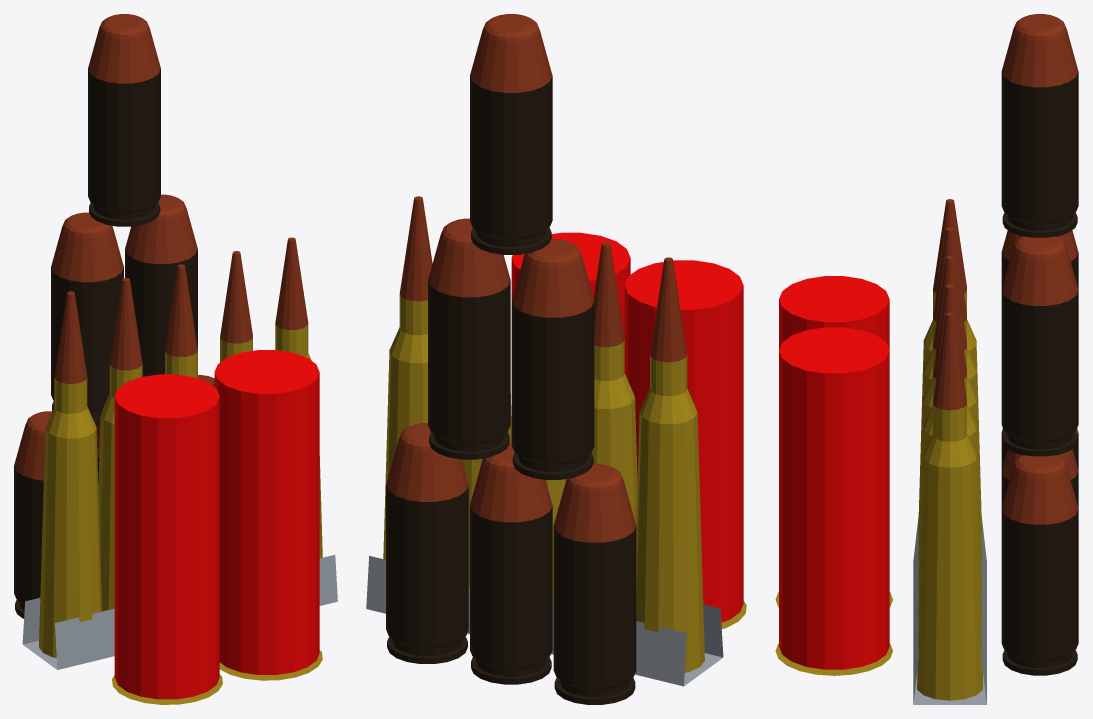
Rendered from ammunition.obj.
3 renders of one model, left to right at view 1: azimuth 30°, elevation 25°; view 2: azimuth 150°, elevation 25°; view 3: azimuth 270°, elevation 25°, orthographic. The views are drawn at different scales.
Visible parts, largest first — view 1: shellPlastic2, shellPlastic, bullet5case, 40sAwCase.005, 40sAwCase.004, 40sAwCase.003, clip, 40sAw.005, 40sAw.004, bullet4case, 40sAwCase.002, 40sAw.003 (+10 smaller); view 2: shellPlastic2, bullet5case, 40sAwCase.002, 40sAwCase.004, 40sAwCase, 40sAwCase.003, 40sAwCase.001, 40sAwCase.005, bullet4case, bullet1case, clip, 40sAw.005 (+11 smaller); view 3: shellPlastic, bullet1case, 40sAwCase.001, 40sAwCase.003, 40sAwCase.005, shellPlastic2, 40sAw.005, 40sAw.001, 40sAw.003, clip, bullet1, bullet2case (+10 smaller).
Boxes of the visible parts, <box> form: shellPlastic2: <box>114,374,219,699</box>; shellPlastic: <box>214,350,319,674</box>; bullet5case: <box>39,377,101,657</box>; 40sAwCase.005: <box>88,69,160,226</box>; 40sAwCase.004: <box>51,267,123,424</box>; 40sAwCase.003: <box>125,249,197,376</box>; clip: <box>22,555,337,669</box>; 40sAw.005: <box>88,14,160,83</box>; 40sAw.004: <box>51,212,123,282</box>; bullet4case: <box>98,364,142,611</box>; 40sAwCase.002: <box>14,466,43,618</box>; 40sAw.003: <box>125,194,197,263</box>; shellPlastic2: <box>624,260,743,622</box>; bullet5case: <box>636,355,704,672</box>; 40sAwCase.002: <box>553,526,636,704</box>; 40sAwCase.004: <box>511,301,594,479</box>; 40sAwCase: <box>470,505,552,684</box>; 40sAwCase.003: <box>428,280,510,459</box>; 40sAwCase.001: <box>386,485,468,663</box>; 40sAwCase.005: <box>470,76,552,254</box>; bullet4case: <box>591,340,637,524</box>; bullet1case: <box>383,293,427,559</box>; clip: <box>366,555,723,686</box>; 40sAw.005: <box>470,14,552,92</box>; shellPlastic: <box>779,327,889,669</box>; bullet1case: <box>917,405,982,700</box>; 40sAwCase.001: <box>1001,509,1078,675</box>; 40sAwCase.003: <box>1001,290,1078,456</box>; 40sAwCase.005: <box>1001,71,1078,237</box>; shellPlastic2: <box>779,276,889,349</box>; 40sAw.005: <box>1001,14,1078,87</box>; 40sAw.001: <box>1001,455,1078,524</box>; 40sAw.003: <box>1001,236,1078,305</box>; clip: <box>913,517,986,704</box>; bullet1: <box>933,312,966,410</box>; bullet2case: <box>918,284,981,620</box>.
Bounding box in the file's own units: 1.14 × 2.23 × 1.01.
